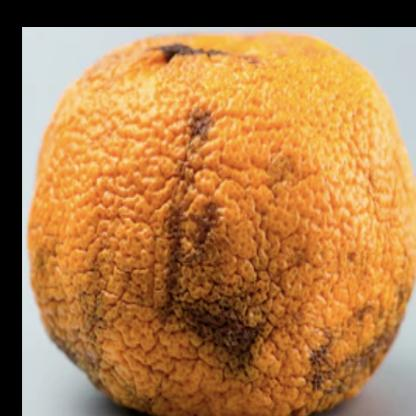rotten: (36, 35, 416, 416)
